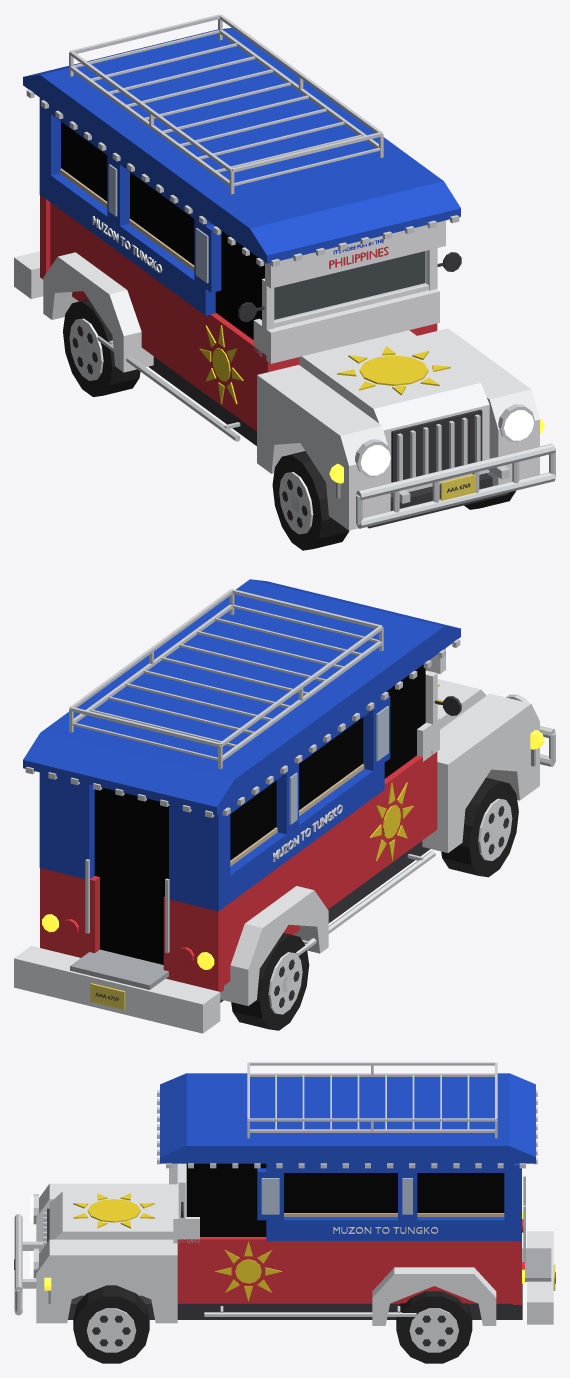
Rendered from jeepney.glb.
3 renders of one model, top to bottom at view 1: azimuth 30°, elevation 25°; view 2: azimuth 150°, elevation 25°; view 3: azimuth 270°, elevation 25°, orthographic. The views are drawn at different scales.
Parts seen in each view (by area): view 1: Roof, Body_Wall_-1, Interior_Black, Fender_F_-1, Hood, Interior_Black.001, Cowl, Fender_R_-1, Wall_Low_-1, Windshield_Glass, Fender_F_1, Banner (+28 smaller); view 2: Roof, Interior_Black, Interior_Black.001, Body_Wall_-1, Fender_F_-1, Rear_Bumper, Fender_R_-1, Rear_Blue_-1, Rear_Blue_1, Wall_Low_-1, Rear_Red_-1, Rear_Red_1 (+24 smaller); view 3: Roof, Body_Wall_1, Interior_Black.001, Interior_Black, Fender_F_1, Wall_Low_1, Hood, Fender_R_1, Chassis, Tire_1_-1.75, Tire_1_1.9, Wall_Top_1 (+24 smaller).
Boxes of the visible parts, <box> form: Roof: <box>23,28,460,263</box>; Body_Wall_-1: <box>50,202,272,431</box>; Interior_Black: <box>61,126,424,339</box>; Fender_F_-1: <box>257,365,390,530</box>; Hood: <box>299,330,489,496</box>; Interior_Black.001: <box>61,121,424,339</box>; Cowl: <box>253,289,439,363</box>; Fender_R_-1: <box>43,252,153,372</box>; Wall_Low_-1: <box>44,171,215,315</box>; Windshield_Glass: <box>274,251,427,321</box>; Fender_F_1: <box>417,328,539,485</box>; Banner: <box>265,220,445,288</box>; Roof: <box>23,579,460,815</box>; Interior_Black: <box>94,677,425,964</box>; Interior_Black.001: <box>94,664,425,944</box>; Body_Wall_-1: <box>224,755,437,985</box>; Fender_F_-1: <box>422,693,539,852</box>; Rear_Bumper: <box>14,946,220,1033</box>; Fender_R_-1: <box>220,886,328,1005</box>; Rear_Blue_-1: <box>169,804,224,911</box>; Rear_Blue_1: <box>39,772,94,878</box>; Wall_Low_-1: <box>224,763,384,906</box>; Rear_Red_-1: <box>163,897,223,992</box>; Rear_Red_1: <box>40,867,99,957</box>; Roof: <box>160,1073,535,1163</box>; Body_Wall_1: <box>177,1237,512,1303</box>; Interior_Black.001: <box>186,1163,504,1236</box>; Interior_Black: <box>186,1181,504,1236</box>; Fender_F_1: <box>36,1239,177,1323</box>; Wall_Low_1: <box>266,1217,513,1240</box>; Hood: <box>49,1191,173,1295</box>; Fender_R_1: <box>372,1267,496,1325</box>; Chassis: <box>68,1283,522,1319</box>; Tire_1_-1.75: <box>73,1285,149,1363</box>; Tire_1_1.9: <box>396,1291,472,1363</box>; Wall_Top_1: <box>266,1163,513,1172</box>.
Size of the model in its own units: 2.23 by 2.94 by 6.13.
